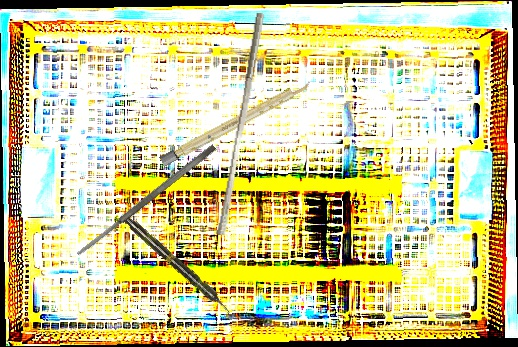Handpiece: (119, 212, 235, 317)
Pusher: (215, 11, 266, 237)
Scalpel Handle: (159, 78, 313, 167)
Spatula Surgical: (74, 143, 218, 258)
